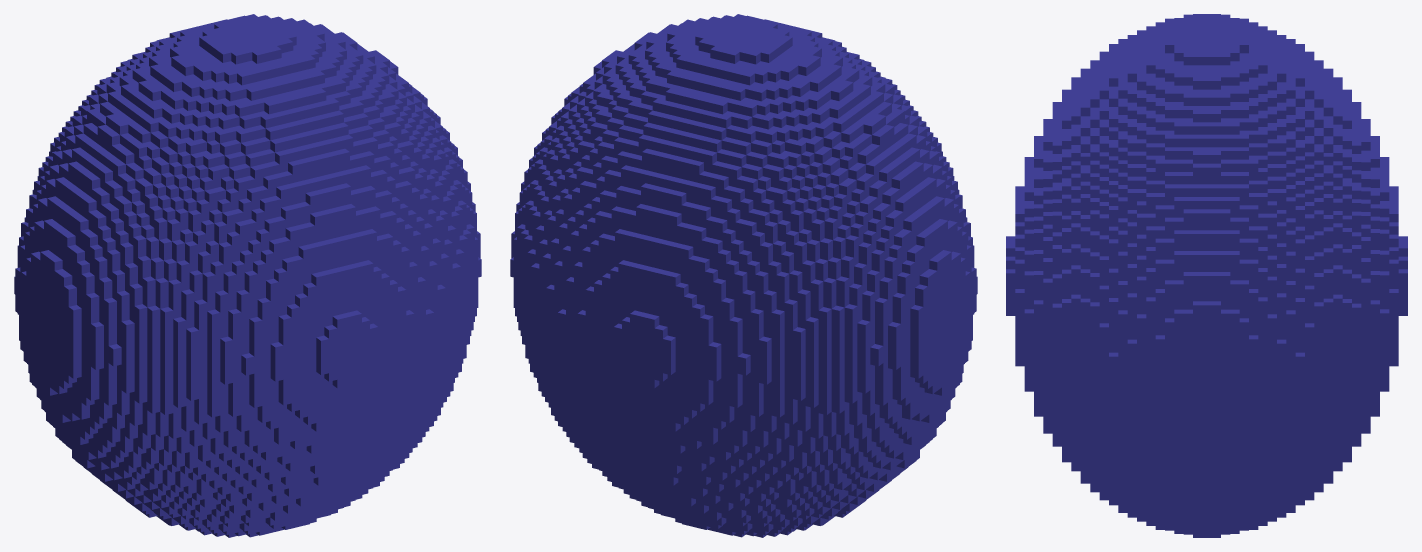
Rendered from label2.obj.
The picture shows the model from 3 angles, left to right: view 1: azimuth 30°, elevation 25°; view 2: azimuth 150°, elevation 25°; view 3: azimuth 270°, elevation 25°; orthographic projection.
Size of the model in its own units: 49 by 56 by 43.
